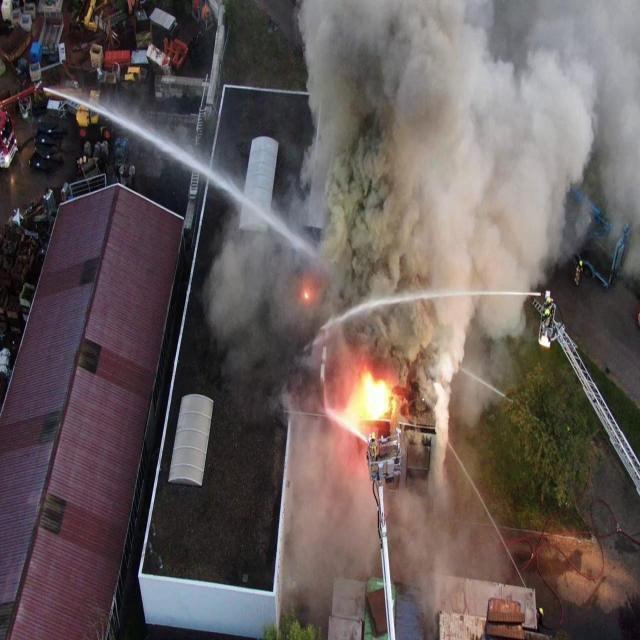Fire: (363, 373, 396, 421), (304, 292, 308, 300)
Smoke: (207, 0, 640, 610)
